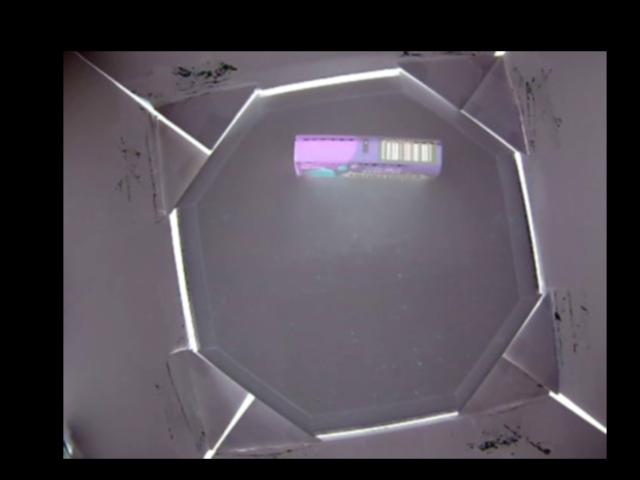Bottle: (290, 132, 441, 180)
